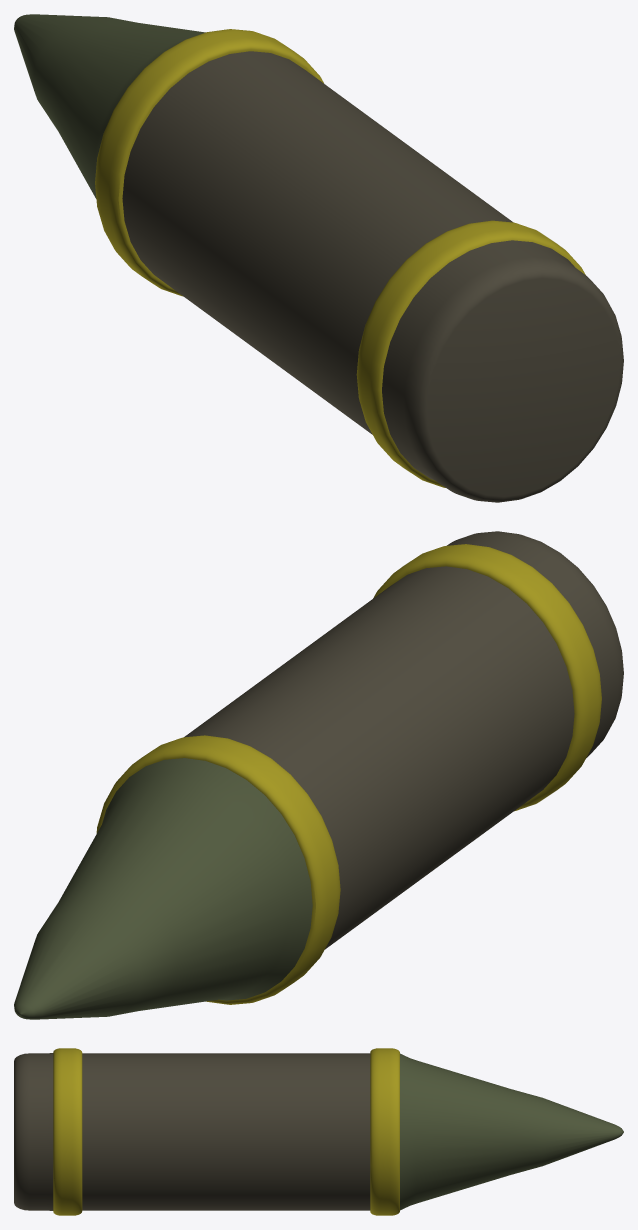
The model's file is Shell_002.fbx.
3 renders of one model, top to bottom at view 1: azimuth 30°, elevation 25°; view 2: azimuth 150°, elevation 25°; view 3: azimuth 270°, elevation 25°, orthographic. The views are drawn at different scales.
Parts seen in each view (by area): view 1: Cylinder.001; view 2: Cylinder.001; view 3: Cylinder.001.
Boxes of the visible parts, x1=… form: Cylinder.001: x1=14, y1=14, x2=623, y2=502; Cylinder.001: x1=14, y1=531, x2=623, y2=1019; Cylinder.001: x1=14, y1=1048, x2=623, y2=1215.
Bounding box in the file's own units: 213 × 225 × 811.
